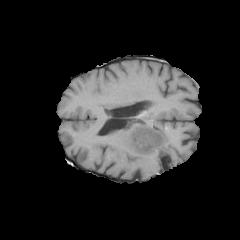glioma: (129, 120, 179, 168)
